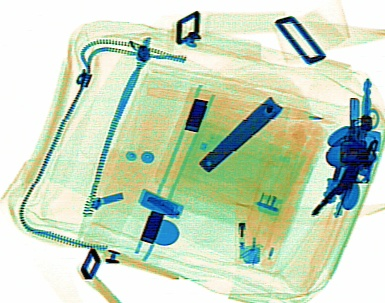lighter: (232, 189, 261, 263)
